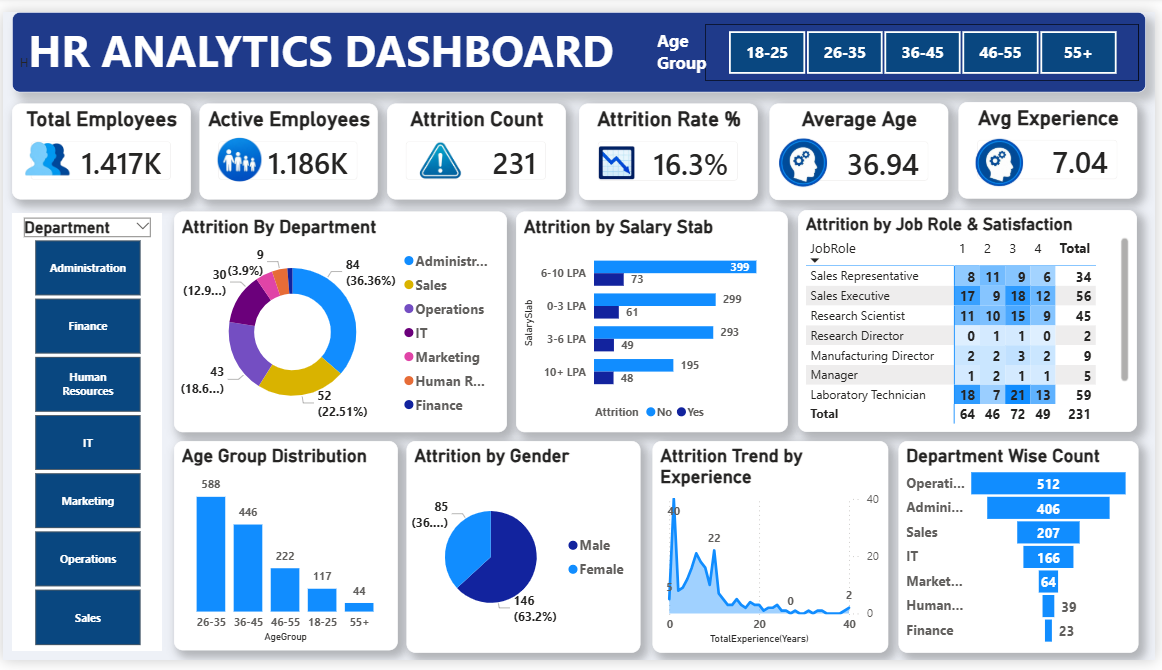

What the dashboard file says about the page in this screenshot:
{"tool":"powerbi","page":{"name":"Page 1","canvas":[1280,720],"ordinal":0},"visuals":[{"type":"textbox","box":[9.7,0,1259.8,89.1],"z":0},{"type":"cardVisual","title":"Total Employees","fields":{"Data":["CountNonNull(HR_Analytics-4.EmpID)"]},"box":[10,101.7,198.3,106.7],"z":1000},{"type":"cardVisual","title":"Active Employees","fields":{"Data":["CountNonNull(HR_Analytics-4.EmployeeCount)"]},"box":[218.2,101.5,197.7,106.8],"z":2000},{"type":"cardVisual","title":"Attrition Count","fields":{"Data":["Sum(HR_Analytics-4.AttritionCount)"]},"box":[427.3,101.5,198.5,106.8],"z":3000},{"type":"cardVisual","title":"Attrition Rate %","fields":{"Data":["HR_Analytics-4.Attrition Rate %"]},"box":[640,101.4,198.6,107.1],"z":4000},{"type":"cardVisual","title":"Average Age","fields":{"Data":["Avg(HR_Analytics-4.Age)"]},"box":[851.4,101.4,198.6,107.1],"z":5000},{"type":"cardVisual","title":"Avg Experience","fields":{"Data":["Avg(HR_Analytics-4.YearsatCompany)"]},"box":[1061.4,100,198.6,107.1],"z":6000},{"type":"donutChart","title":"Attrition By Department","fields":{"Category":["HR_Analytics-4.Department"],"Y":["Sum(HR_Analytics-4.AttritionCount)"]},"box":[190,221.7,370,245],"z":7000},{"type":"clusteredBarChart","title":"Attrition by Salary Stab","fields":{"Category":["HR_Analytics-4.SalarySlab"],"Y":["CountNonNull(HR_Analytics-4.EmpID)"],"Series":["HR_Analytics-4.Attrition"]},"box":[570,221.7,301.7,245],"z":8000},{"type":"pivotTable","title":"Attrition by Job Role & Satisfaction","fields":{"Rows":["HR_Analytics-4.JobRole"],"Values":["Sum(HR_Analytics-4.AttritionCount)"],"Columns":["HR_Analytics-4.JobSatisfaction"]},"box":[883.3,220,376.7,246.7],"z":9000},{"type":"columnChart","title":"Age Group Distribution","fields":{"Y":["Sum(HR_Analytics-4.EmployeeCount)"],"Category":["HR_Analytics-4.AgeGroup"]},"box":[190,477.1,248.6,232.9],"z":10000},{"type":"pieChart","title":"Attrition by Gender","fields":{"Category":["HR_Analytics-4.Gender"],"Y":["Sum(HR_Analytics-4.AttritionCount)"]},"box":[448.3,476.7,260,235],"z":11000},{"type":"areaChart","title":"Attrition Trend by Experience","fields":{"Y2":["Sum(HR_Analytics-4.AttritionCount)"],"Category":["HR_Analytics-4.TotalExperience(Years)"]},"box":[721.7,476.7,261.7,235],"z":12000},{"type":"funnel","title":"Department Wise Count","fields":{"Y":["CountNonNull(HR_Analytics-4.EmpID)"],"Category":["HR_Analytics-4.Department"]},"box":[995,476.7,266.7,235],"z":13000},{"type":"slicer","fields":{"Values":["HR_Analytics-4.Department"]},"box":[10,223.3,166.7,486.7],"z":14000},{"type":"slicer","fields":{"Values":["HR_Analytics-4.AgeGroup"]},"box":[780,13.3,481.7,63.3],"z":15000},{"type":"textbox","box":[721.7,13.3,76.7,63.3],"z":16000},{"type":"image","box":[656.7,130,51.7,76.7],"z":17000},{"type":"image","box":[21.7,116.7,56.7,91.7],"z":18000},{"type":"image","box":[448.3,130,78.3,60],"z":19000},{"type":"image","box":[852.9,125.7,74.3,85.7],"z":20000},{"type":"image","box":[233.3,123.3,65,80],"z":20001},{"type":"image","box":[1071.7,125,73.3,85],"z":20002}]}

Visuals, with their boxes in screenshot pixels (x1, y1, x2, y2), scaled from the page's 1280x720 canvas onto the 1162x670 screenshot:
textbox: locate(9, 0, 1152, 83)
"Total Employees" cardVisual: locate(9, 95, 189, 194)
"Active Employees" cardVisual: locate(198, 94, 378, 194)
"Attrition Count" cardVisual: locate(388, 94, 568, 194)
"Attrition Rate %" cardVisual: locate(581, 94, 761, 194)
"Average Age" cardVisual: locate(773, 94, 953, 194)
"Avg Experience" cardVisual: locate(964, 93, 1144, 193)
"Attrition By Department" donutChart: locate(172, 206, 508, 434)
"Attrition by Salary Stab" clusteredBarChart: locate(517, 206, 791, 434)
"Attrition by Job Role & Satisfaction" pivotTable: locate(802, 205, 1144, 434)
"Age Group Distribution" columnChart: locate(172, 444, 398, 661)
"Attrition by Gender" pieChart: locate(407, 444, 643, 662)
"Attrition Trend by Experience" areaChart: locate(655, 444, 893, 662)
"Department Wise Count" funnel: locate(903, 444, 1145, 662)
slicer - HR_Analytics-4.Department: locate(9, 208, 160, 661)
slicer - HR_Analytics-4.AgeGroup: locate(708, 12, 1145, 71)
textbox: locate(655, 12, 725, 71)
image: locate(596, 121, 643, 192)
image: locate(20, 109, 71, 194)
image: locate(407, 121, 478, 177)
image: locate(774, 117, 842, 197)
image: locate(212, 115, 271, 189)
image: locate(973, 116, 1039, 195)
